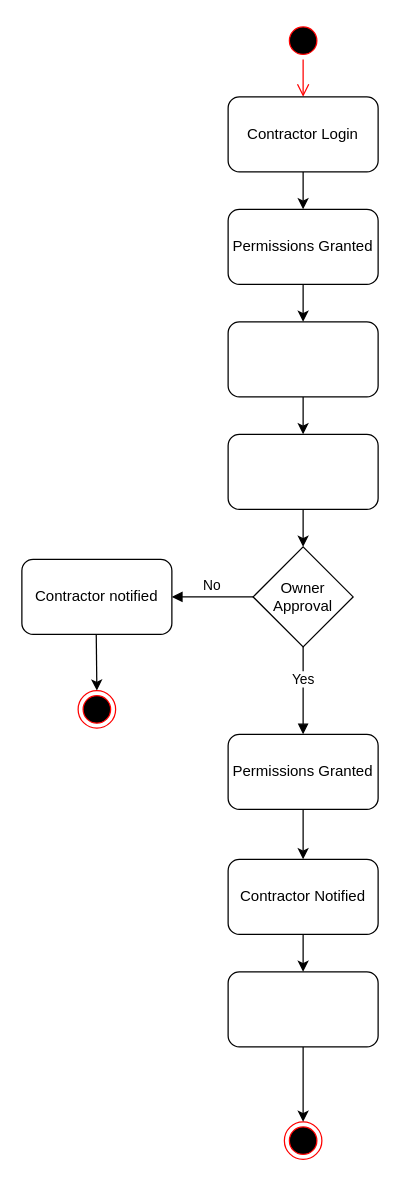
Image size: 400x1181. Some labels were removed from this diagram. The shapes that lost their labels are listed below. From the top down, each one's centre as x and y in pixels, then its label:
At pixel 302 359: "Request permissions to view document".
At pixel 302 471: "Owner notified".
At pixel 302 1009: "Contractor views document".
